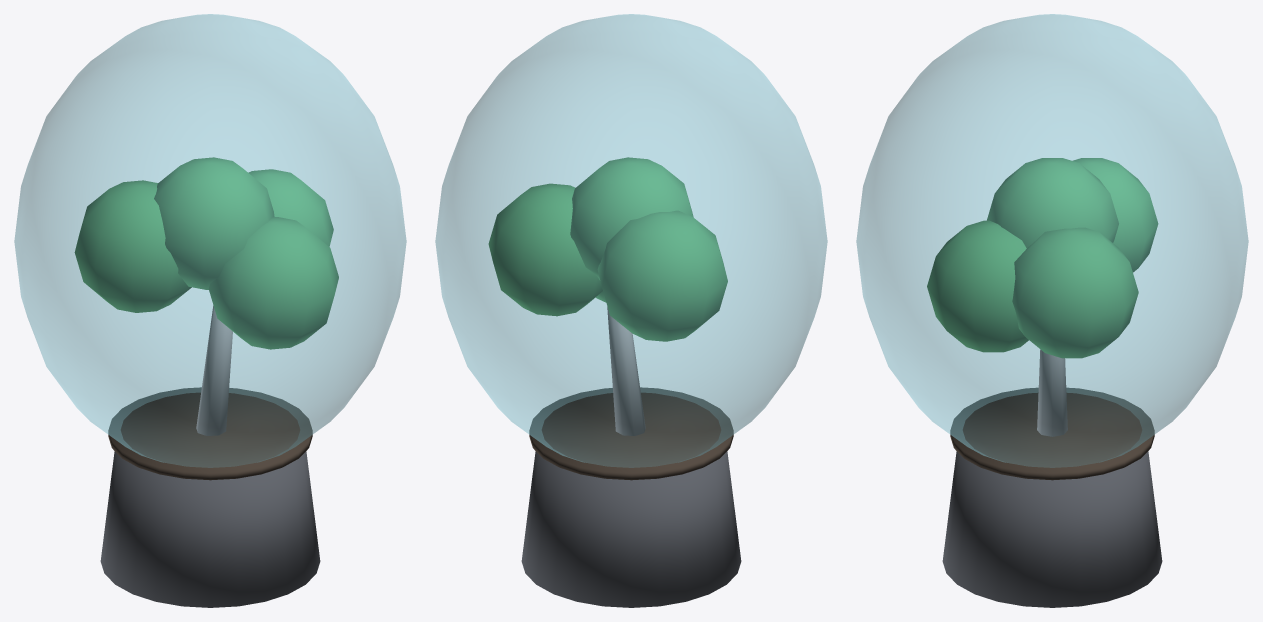
The model's file is plant_bonsai_dome.glb.
3 views of the same model, side by side, from view 1: azimuth 30°, elevation 25°; view 2: azimuth 150°, elevation 25°; view 3: azimuth 270°, elevation 25° (orthographic).
Visible parts, largest first — view 1: GD_plant_bonsai_dome__m4, GD_plant_bonsai_dome__m3, GD_plant_bonsai_dome__m0, GD_plant_bonsai_dome__m1, GD_plant_bonsai_dome__m2; view 2: GD_plant_bonsai_dome__m4, GD_plant_bonsai_dome__m3, GD_plant_bonsai_dome__m0, GD_plant_bonsai_dome__m1, GD_plant_bonsai_dome__m2; view 3: GD_plant_bonsai_dome__m4, GD_plant_bonsai_dome__m3, GD_plant_bonsai_dome__m0, GD_plant_bonsai_dome__m1, GD_plant_bonsai_dome__m2.
Boxes of the visible parts, x1=… form: GD_plant_bonsai_dome__m4: x1=14, y1=14, x2=406, y2=467; GD_plant_bonsai_dome__m3: x1=74, y1=157, x2=338, y2=349; GD_plant_bonsai_dome__m0: x1=100, y1=451, x2=320, y2=607; GD_plant_bonsai_dome__m1: x1=108, y1=387, x2=312, y2=480; GD_plant_bonsai_dome__m2: x1=196, y1=305, x2=232, y2=435; GD_plant_bonsai_dome__m4: x1=435, y1=14, x2=827, y2=467; GD_plant_bonsai_dome__m3: x1=488, y1=157, x2=727, y2=341; GD_plant_bonsai_dome__m0: x1=521, y1=451, x2=741, y2=607; GD_plant_bonsai_dome__m1: x1=529, y1=387, x2=733, y2=480; GD_plant_bonsai_dome__m2: x1=607, y1=307, x2=645, y2=435; GD_plant_bonsai_dome__m4: x1=856, y1=14, x2=1248, y2=467; GD_plant_bonsai_dome__m3: x1=927, y1=158, x2=1158, y2=358; GD_plant_bonsai_dome__m0: x1=942, y1=451, x2=1162, y2=607; GD_plant_bonsai_dome__m1: x1=950, y1=387, x2=1154, y2=480; GD_plant_bonsai_dome__m2: x1=1037, y1=349, x2=1067, y2=436.
Size of the model in its own units: 1 by 1.5 by 1.
